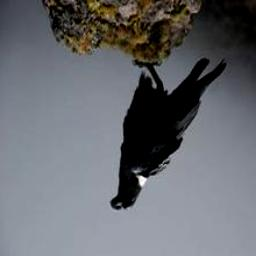Crow: (109, 51, 229, 219)
